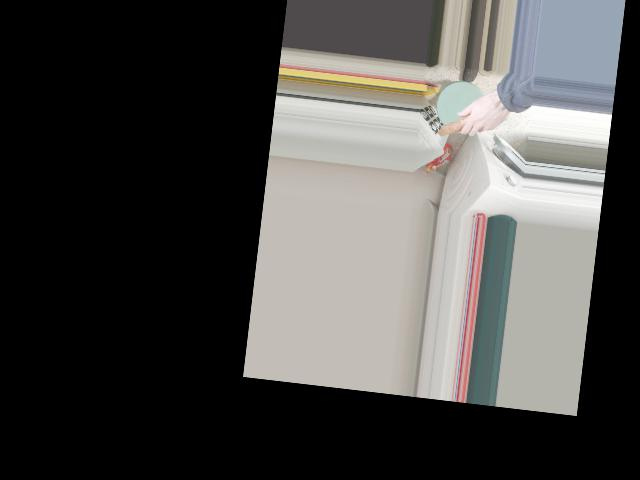sweet_potato: (439, 98, 494, 142)
